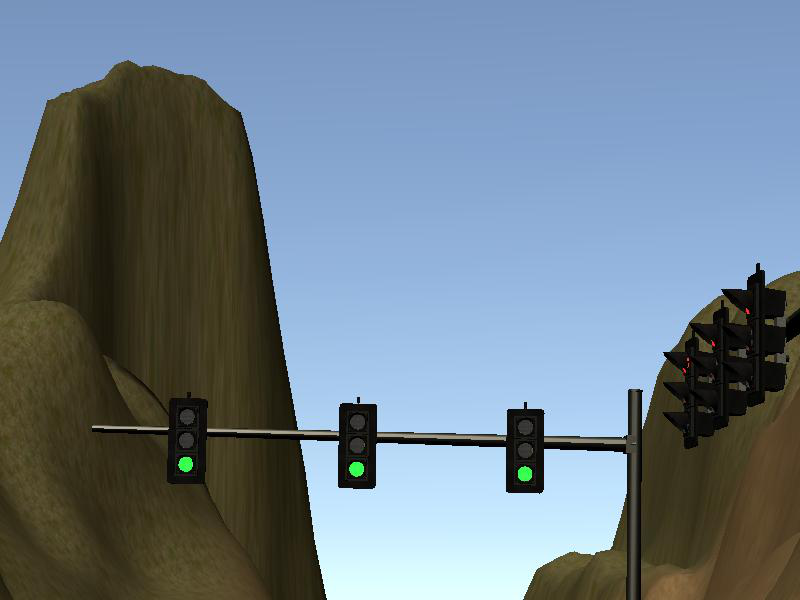green: (168, 398, 208, 484), (338, 404, 375, 491), (507, 410, 544, 495)
